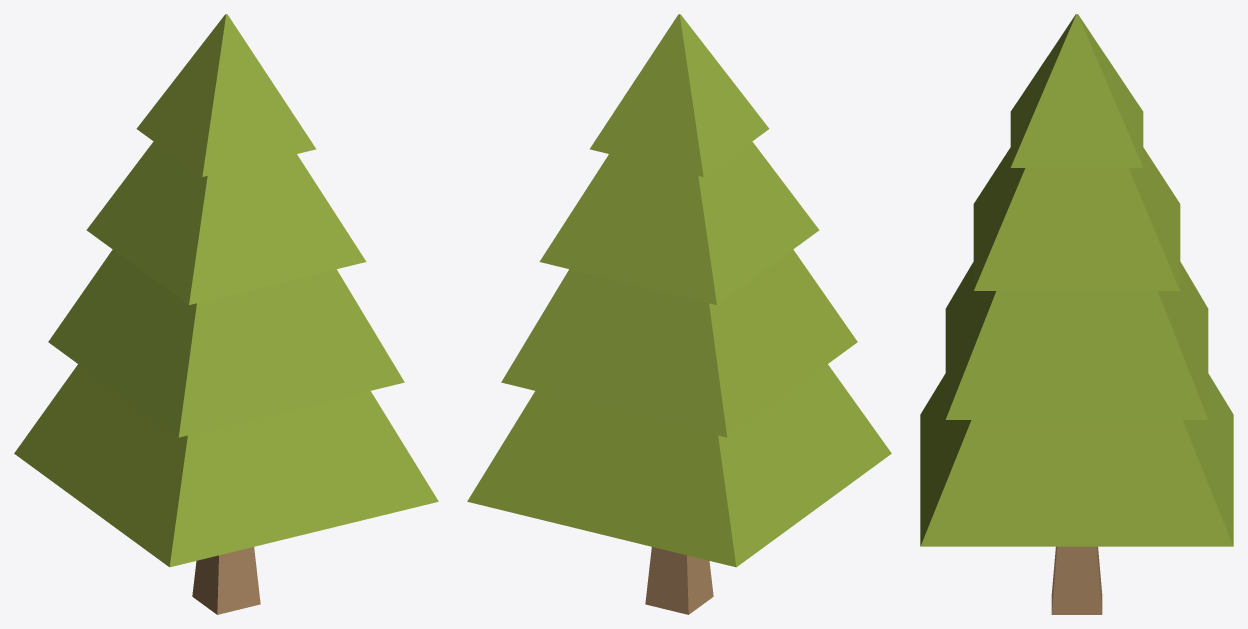
Rendered from RC_Tree003.fbx.
3 renders of one model, left to right at view 1: azimuth 30°, elevation 25°; view 2: azimuth 150°, elevation 25°; view 3: azimuth 270°, elevation 25°, orthographic.
Visible parts, largest first — view 1: Tree_03; view 2: Tree_03; view 3: Tree_03.
Boxes of the visible parts, x1,y1,x2,y2 form: Tree_03: (14,14,438,614); Tree_03: (467,14,891,614); Tree_03: (920,14,1233,614).
Bounding box in the file's own units: 151 × 314 × 151.
